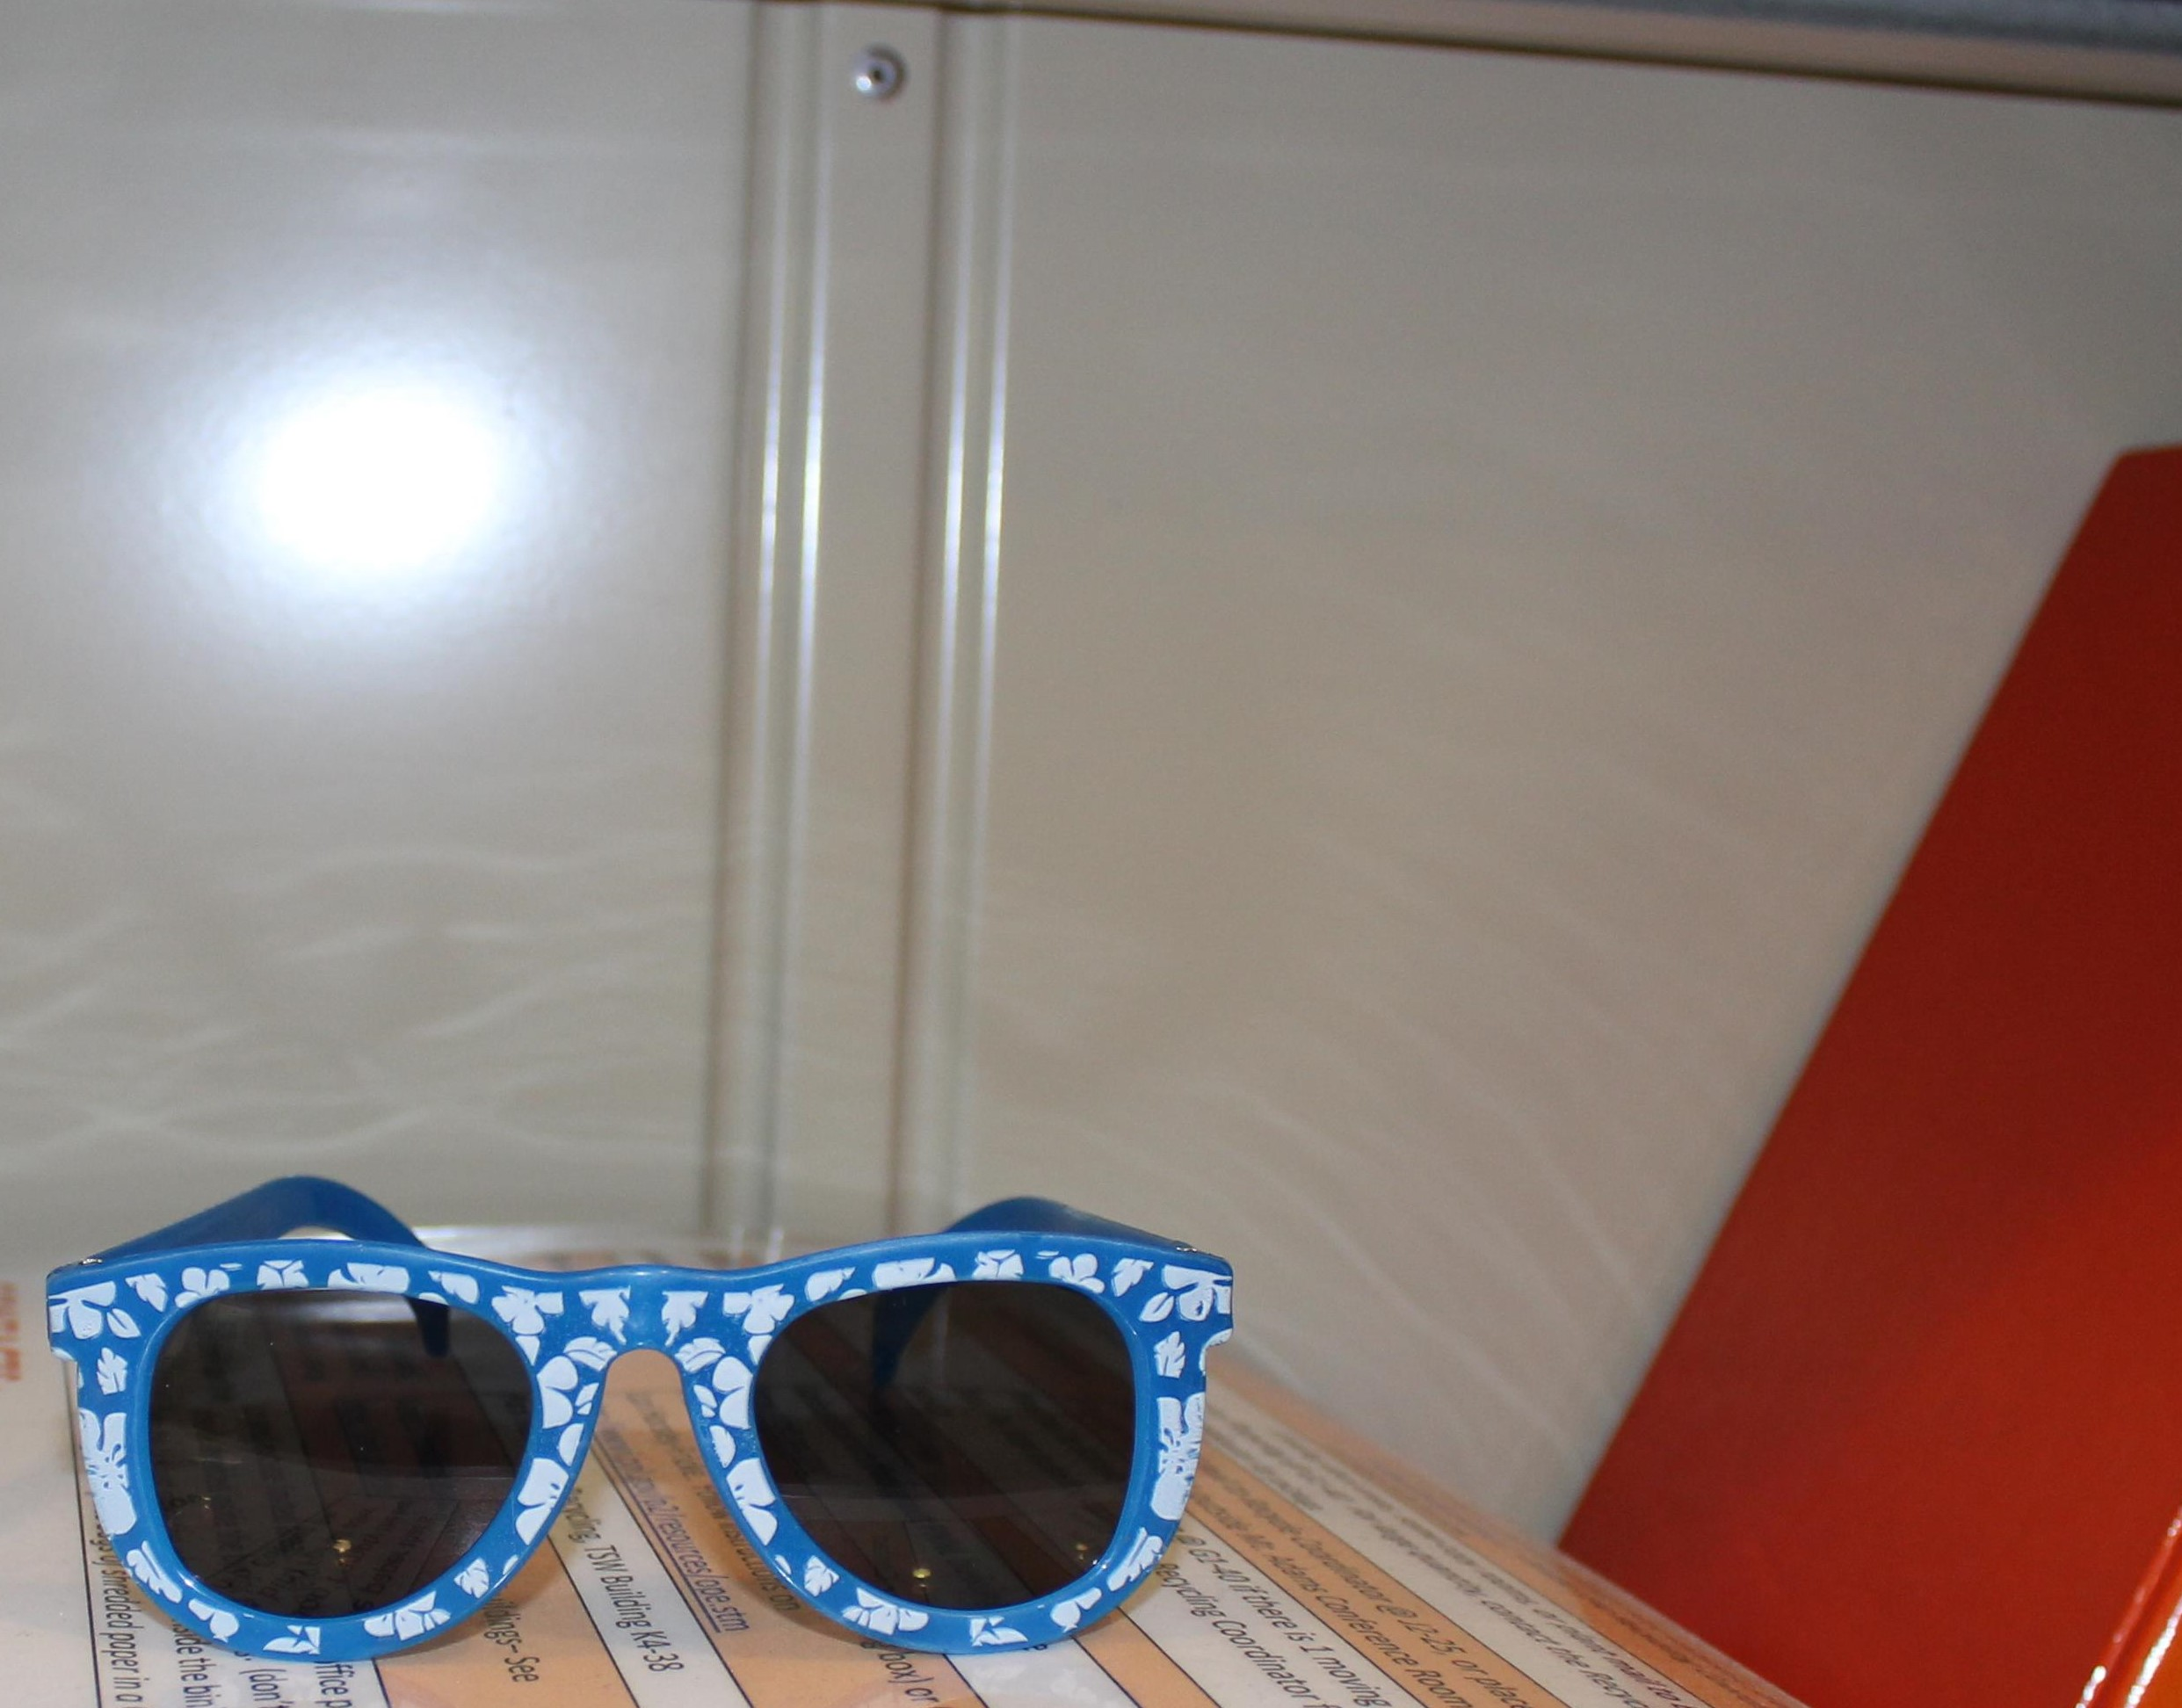blueSunglasses: (16, 1143, 1272, 1692)
